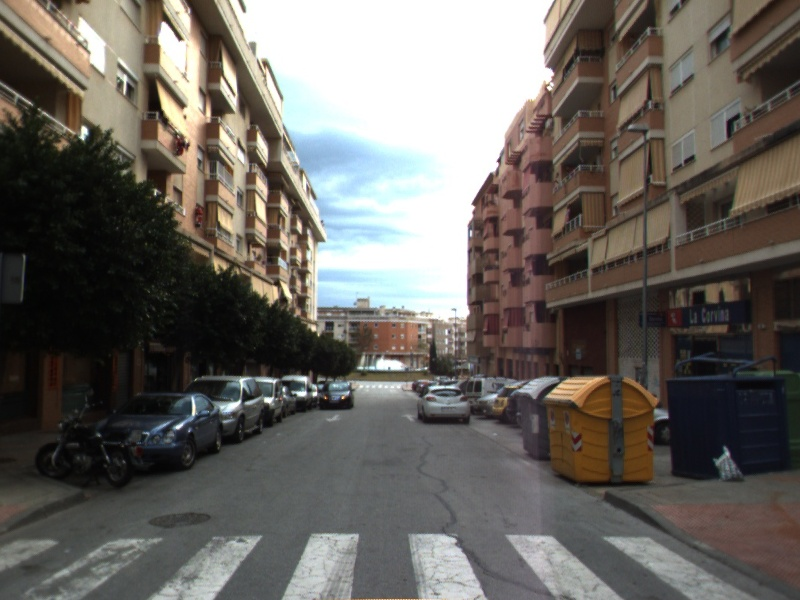STRAIGHT: (399, 411, 419, 423)
